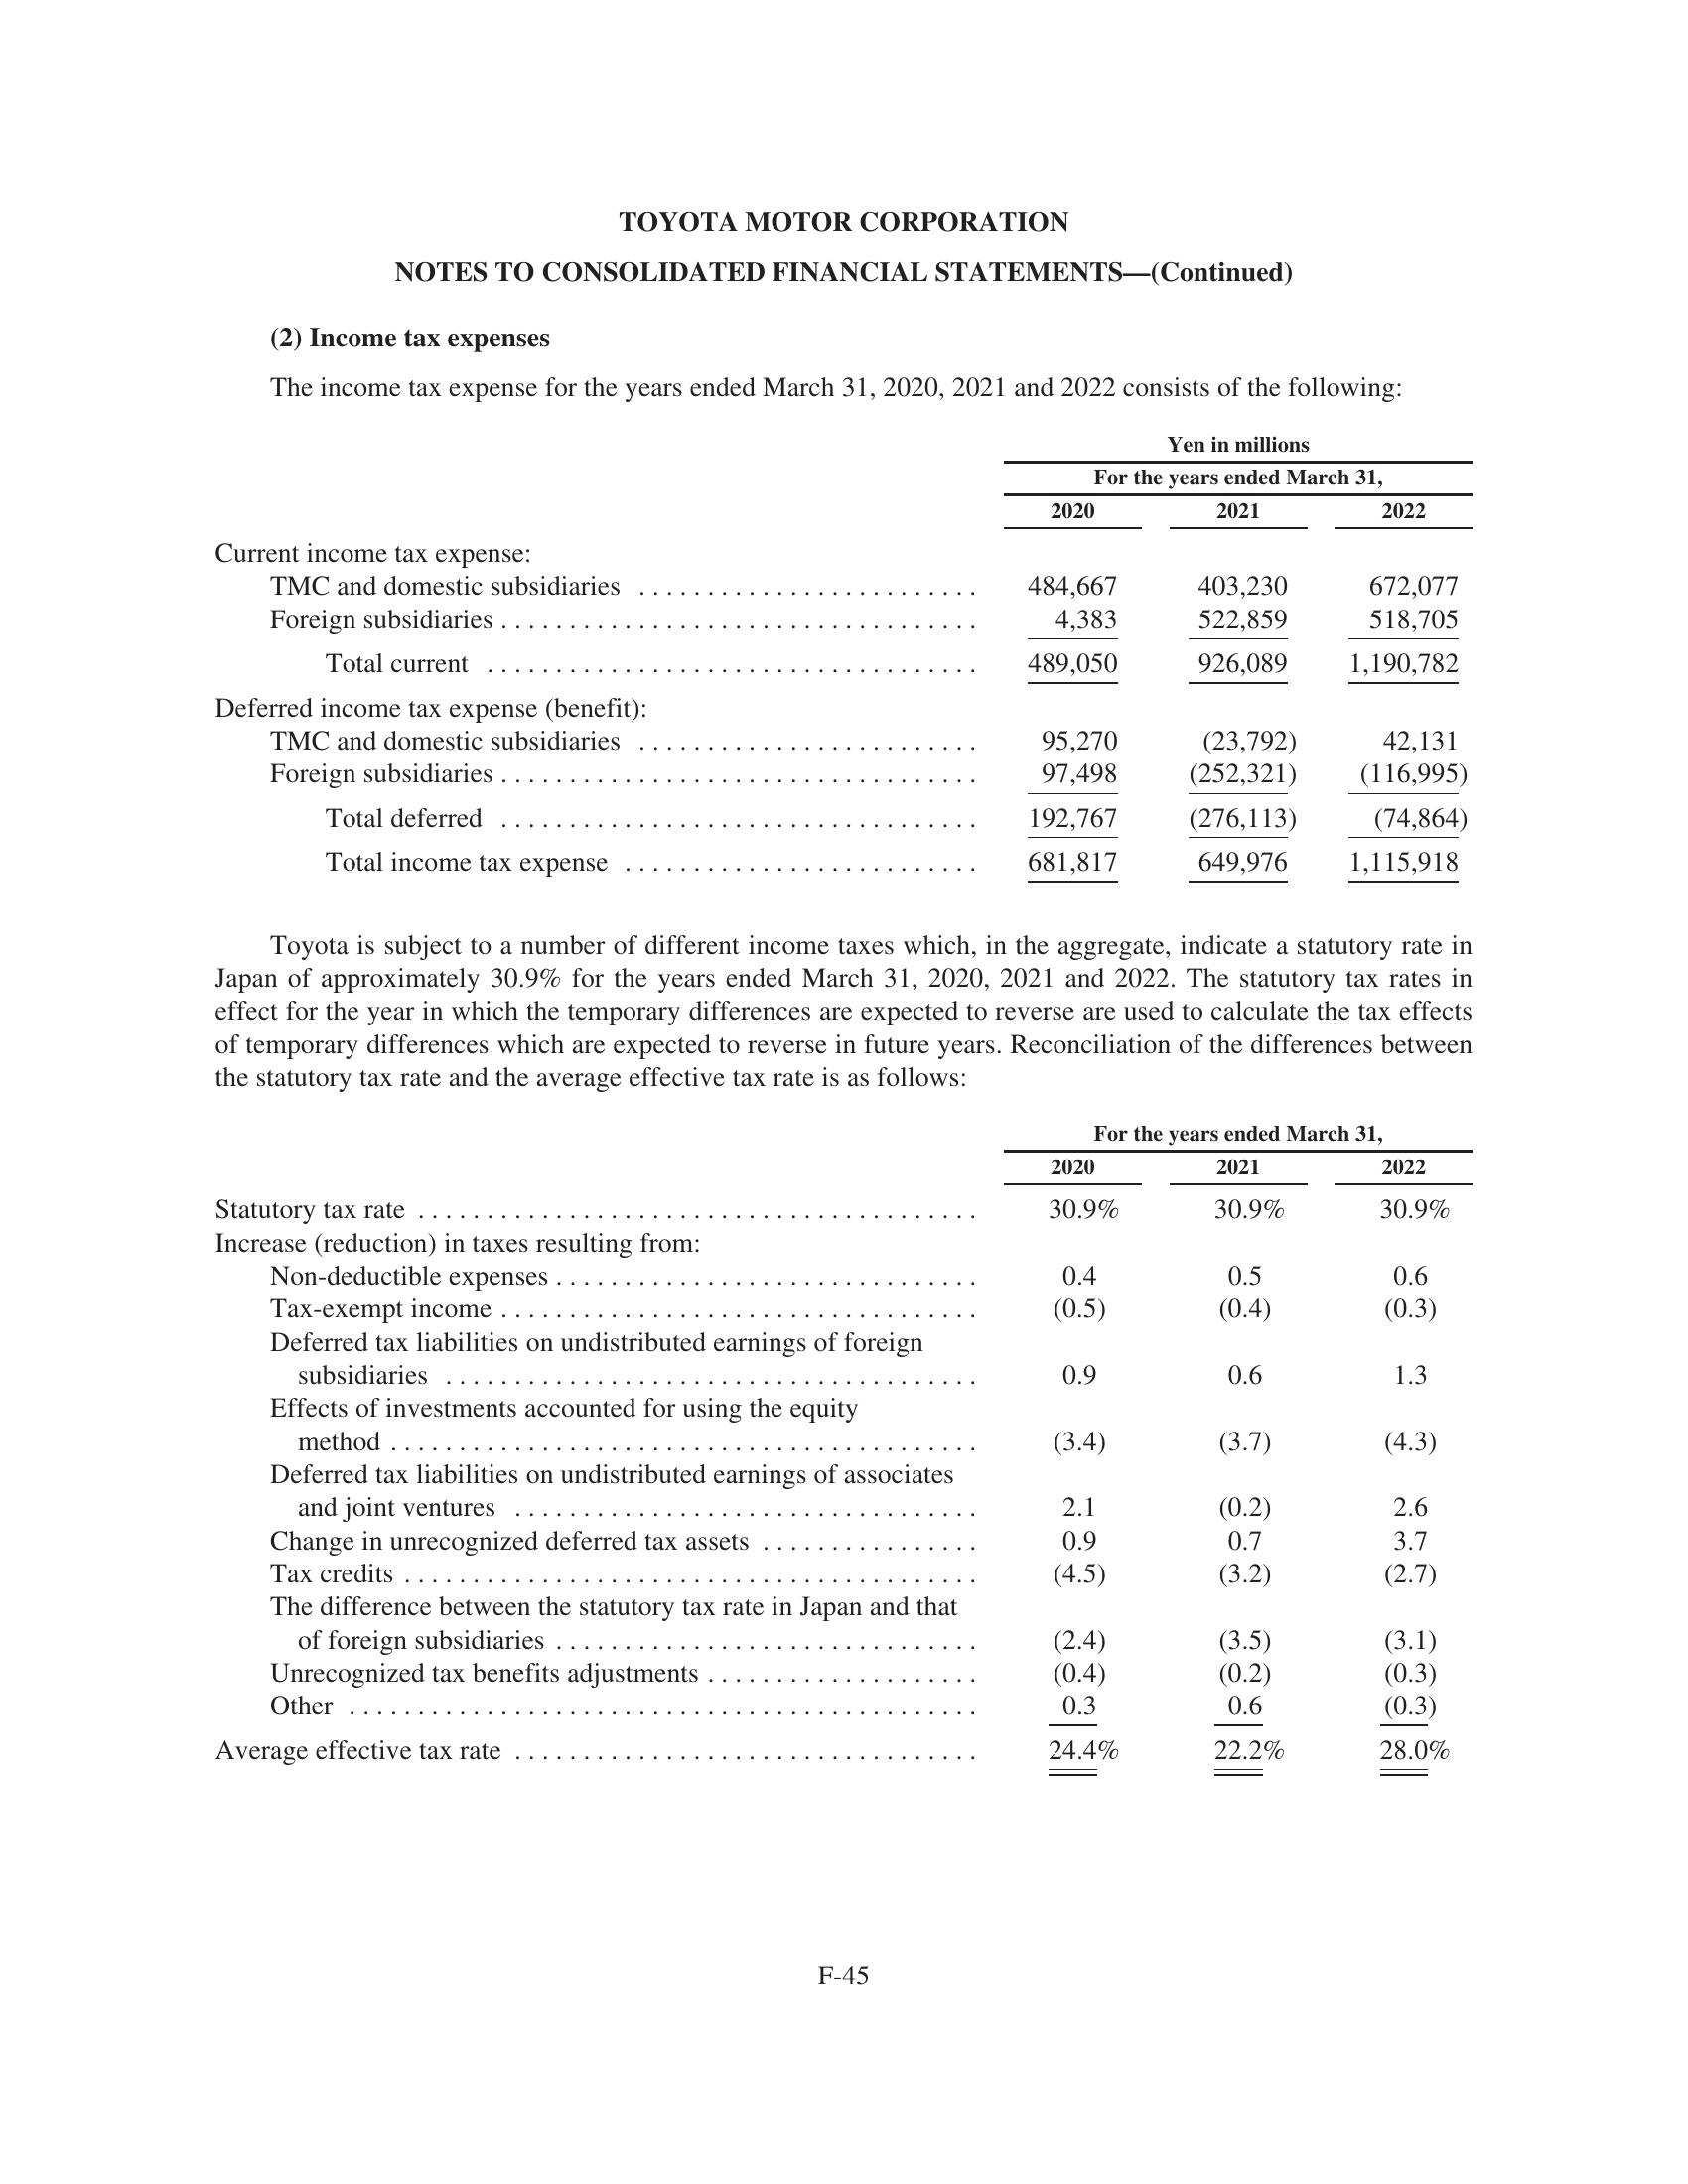Footer: (0, 1950, 1688, 2184)
Header: (0, 0, 1688, 195)
Table: (184, 1097, 1495, 1792), (176, 422, 1504, 911)
